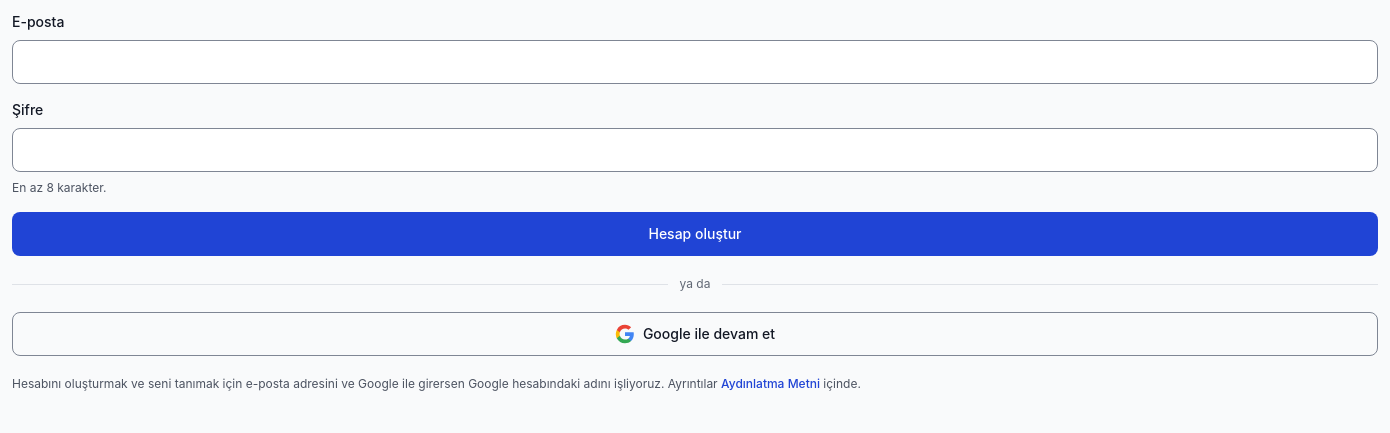
CredentialsForm › kayıtta şifre en az 8 karakter
This screenshot has width=1390, height=433.
In the field labelled "E-posta": {"x": 695, "y": 62} top-left (12, 40), bottom-right (1378, 84), type "ayse@example.test"
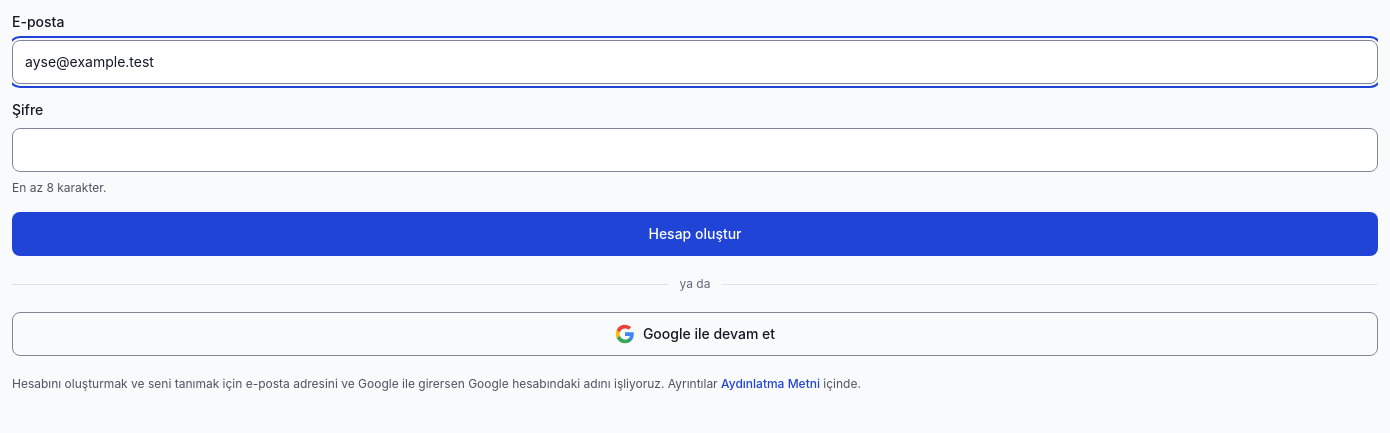
In the password field labelled "Şifre": {"x": 695, "y": 150} top-left (12, 128), bottom-right (1378, 172), type "kisa"
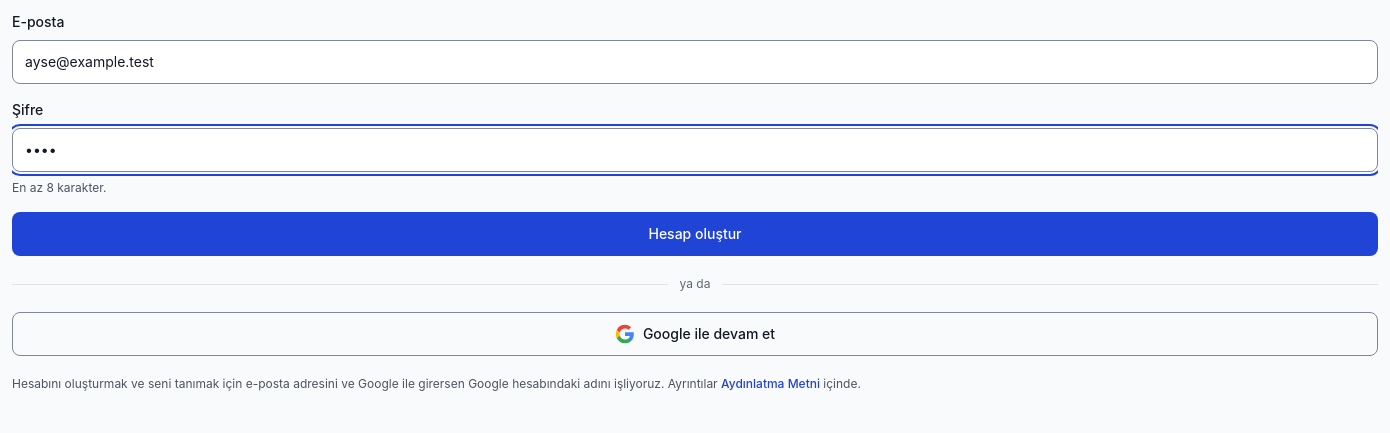
Click the button with test id "auth-submit": {"x": 695, "y": 234} top-left (12, 212), bottom-right (1378, 256)
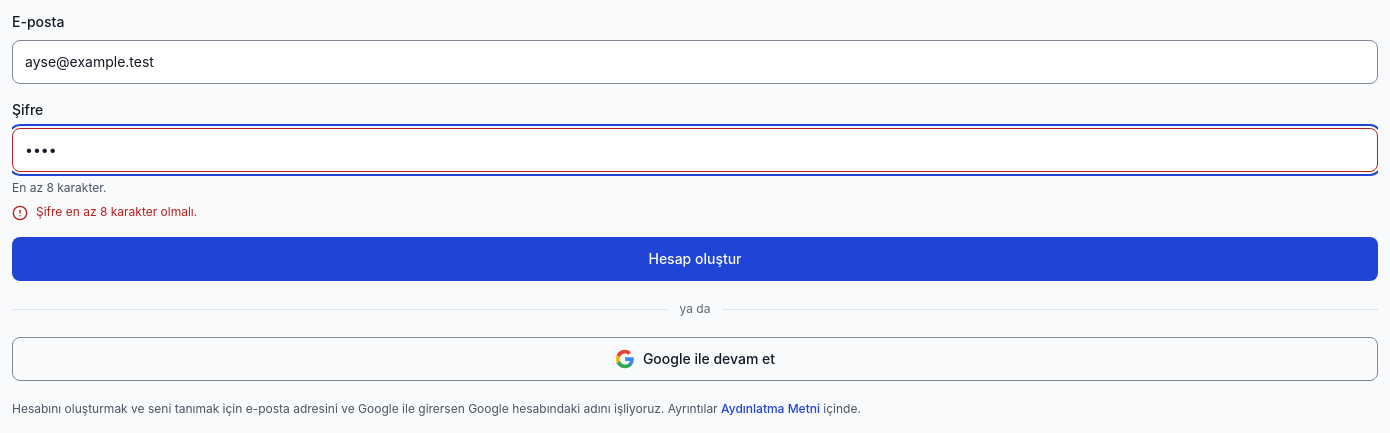
Check: the text "Şifre en az 8 karakter olmalı." is shown, box top-left (36, 204), bottom-right (197, 220)
